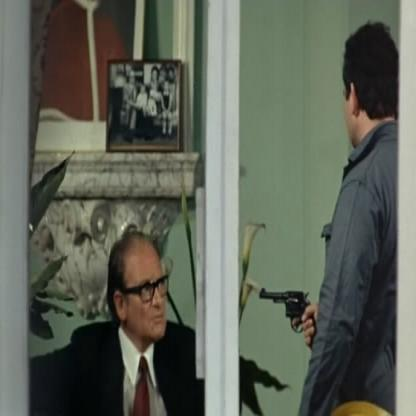gun: (250, 260, 322, 356)
